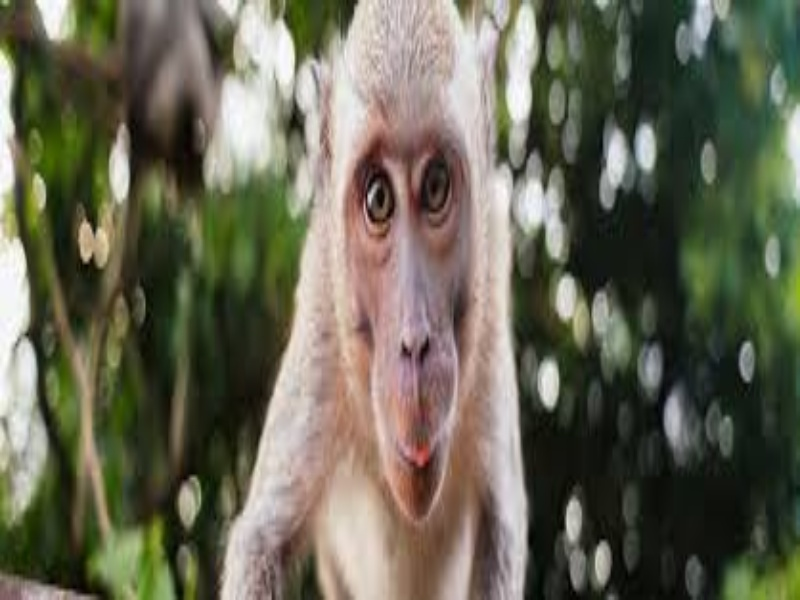monkey: (215, 1, 550, 595)
